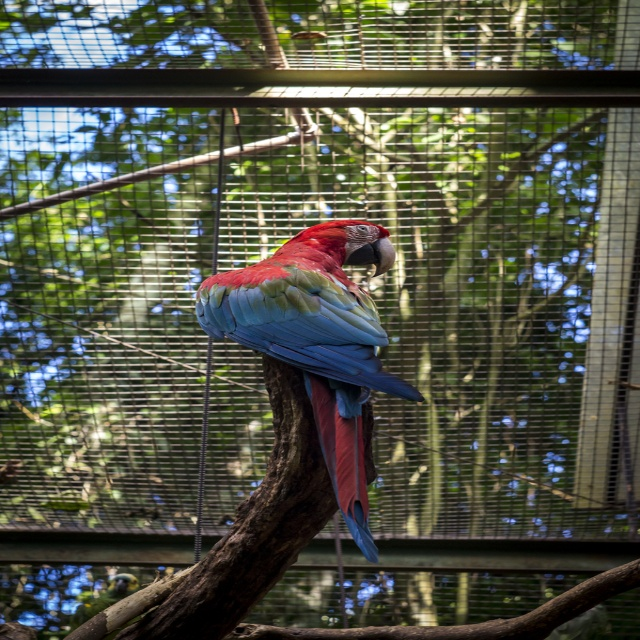Parrot: (198, 219, 428, 562)
